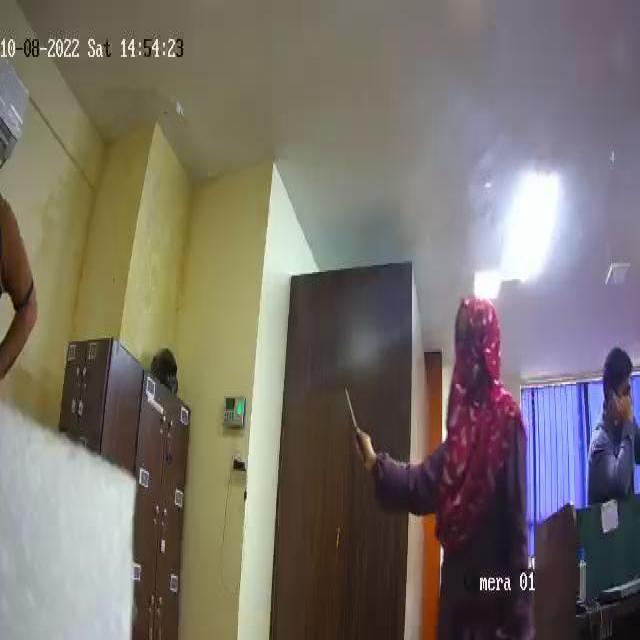faca: (342, 384, 371, 469)
